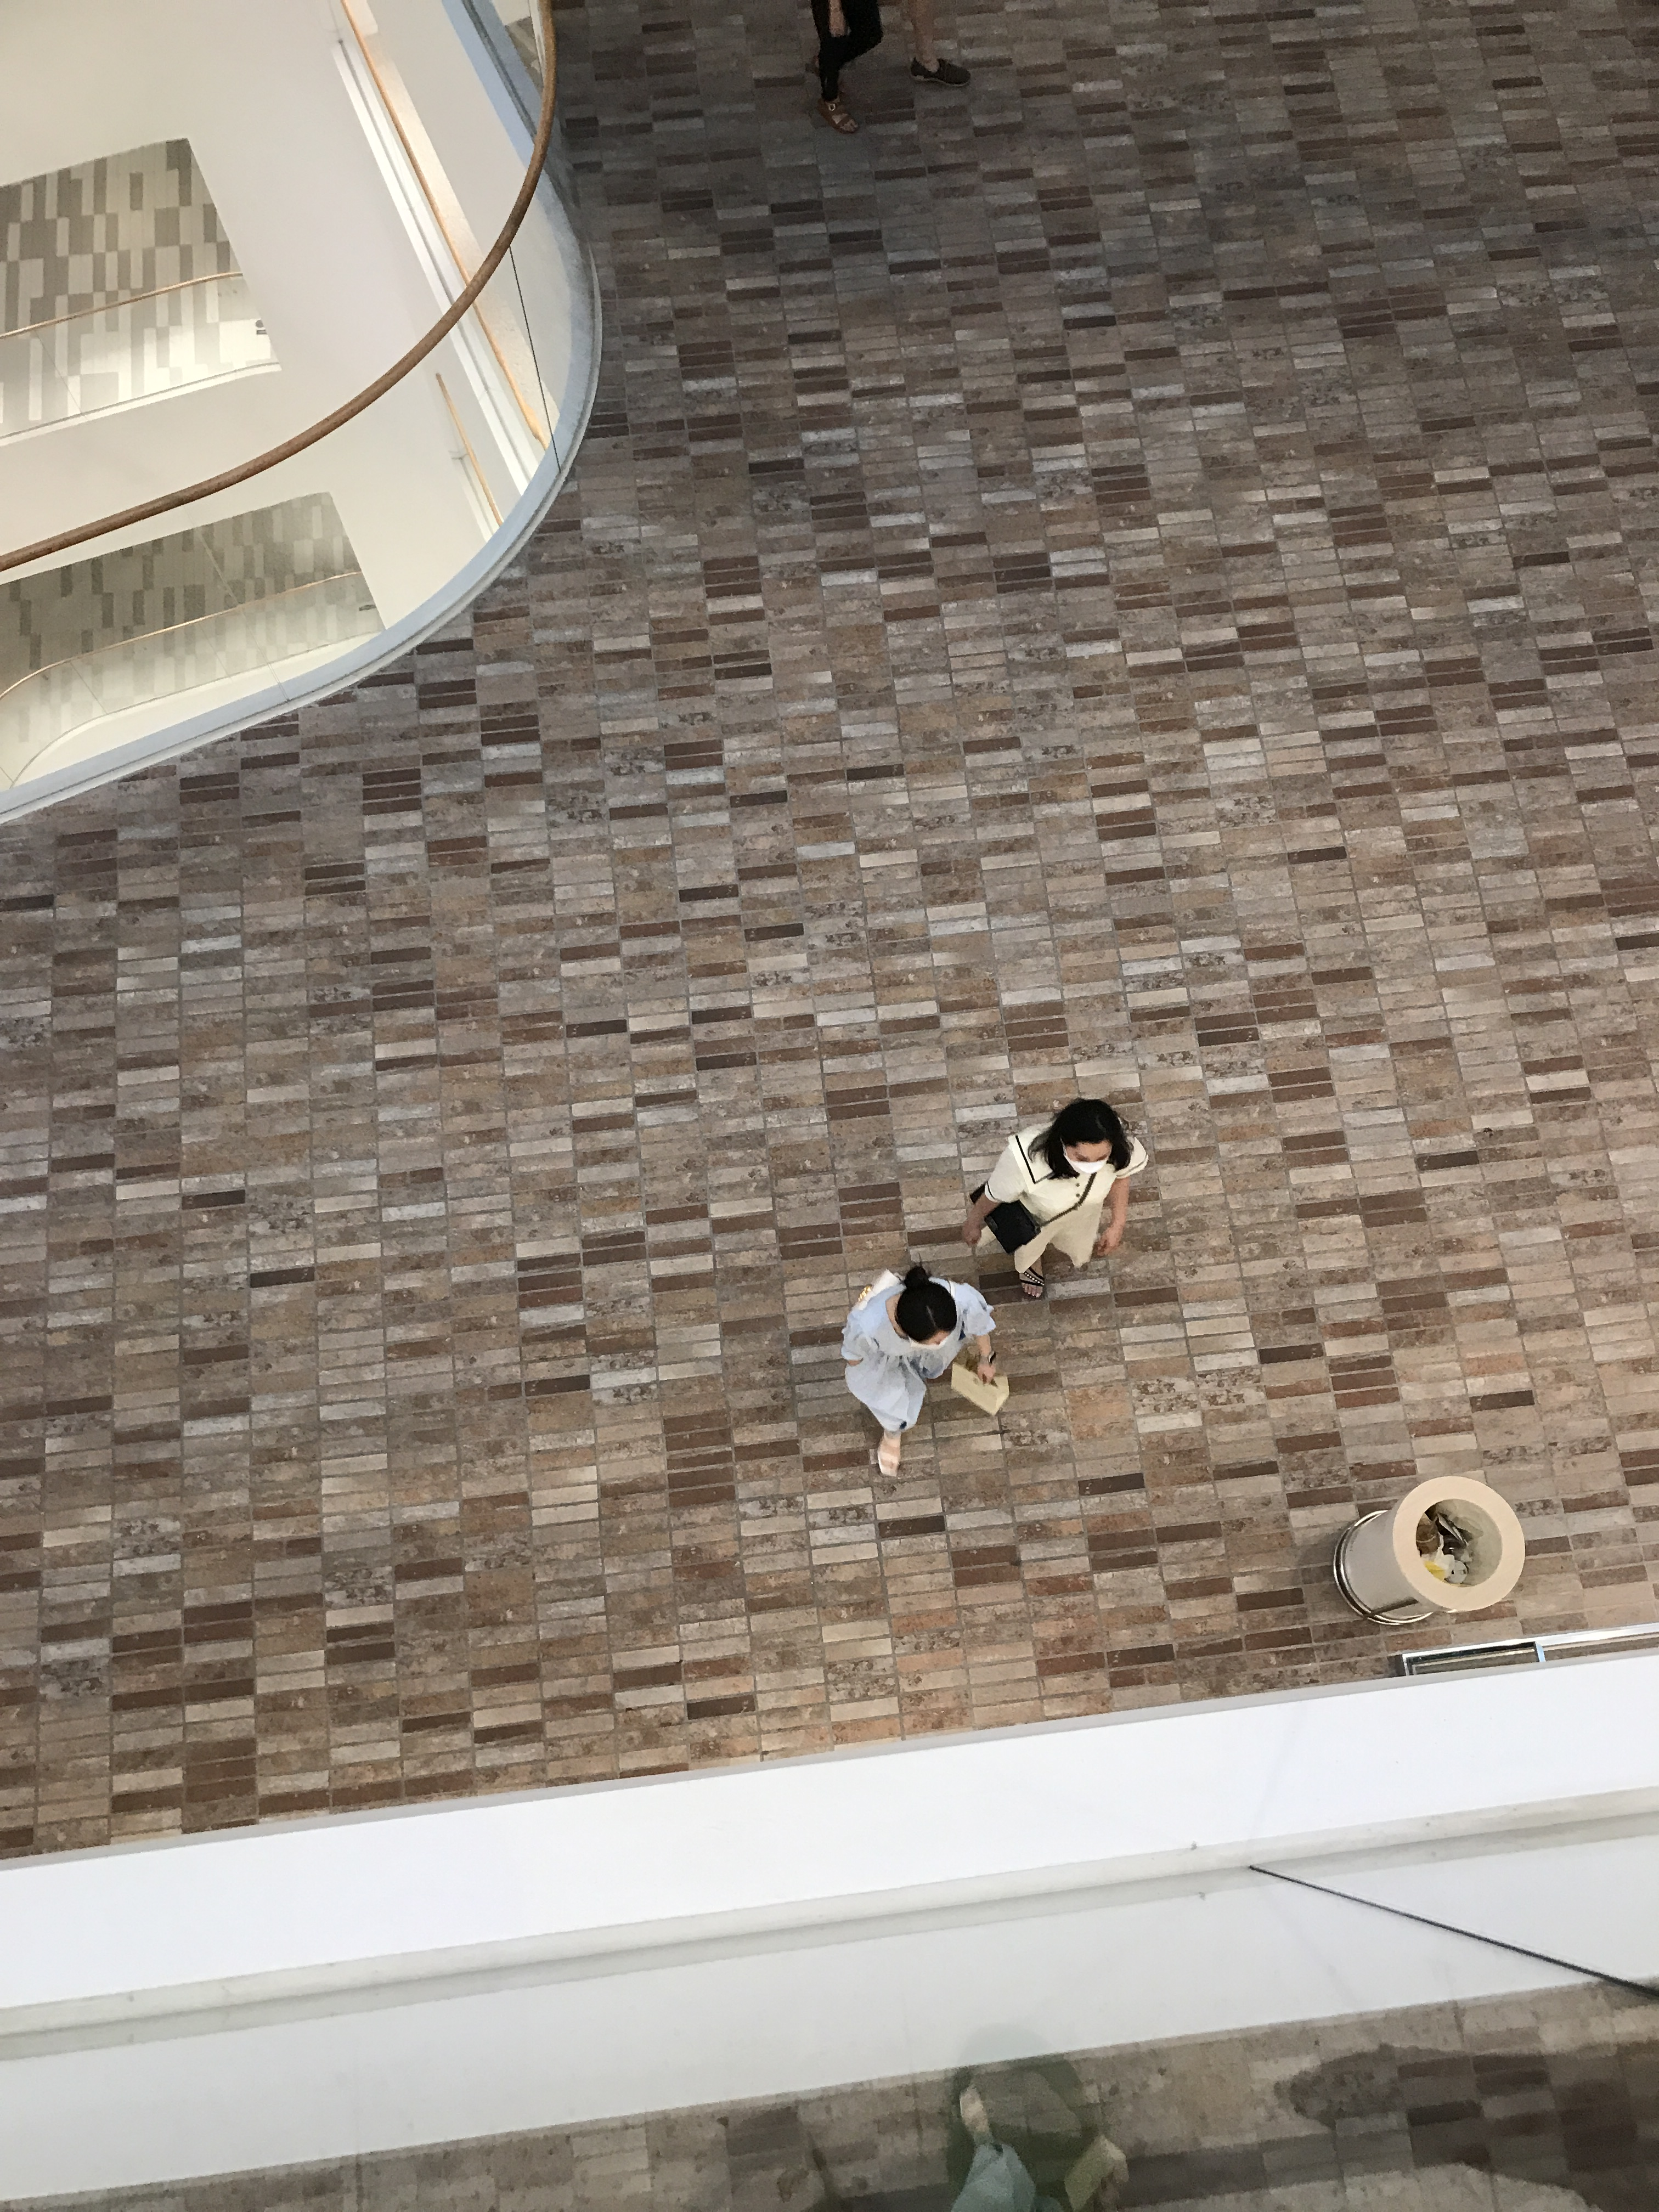person: (963, 1101, 1146, 1302), (844, 1263, 1009, 1479)
